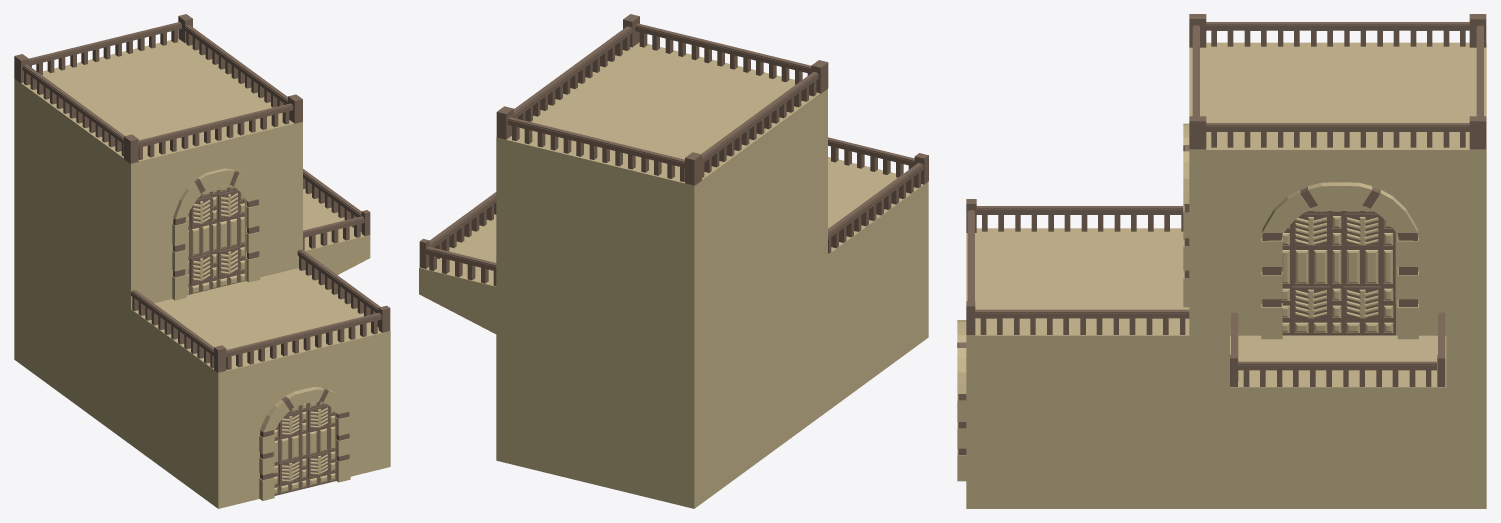
The picture shows the model from 3 angles, left to right: view 1: azimuth 30°, elevation 25°; view 2: azimuth 150°, elevation 25°; view 3: azimuth 270°, elevation 25°; orthographic projection. The views are drawn at different scales.
Parts seen in each view (by area): view 1: doorinside.001; view 2: doorinside.001; view 3: doorinside.001.
Boxes of the visible parts, bbox=[...] form: doorinside.001: bbox=[14, 14, 390, 508]; doorinside.001: bbox=[419, 14, 928, 508]; doorinside.001: bbox=[957, 14, 1486, 508].
Bounding box in the file's own units: 1745 × 1980 × 2451.
